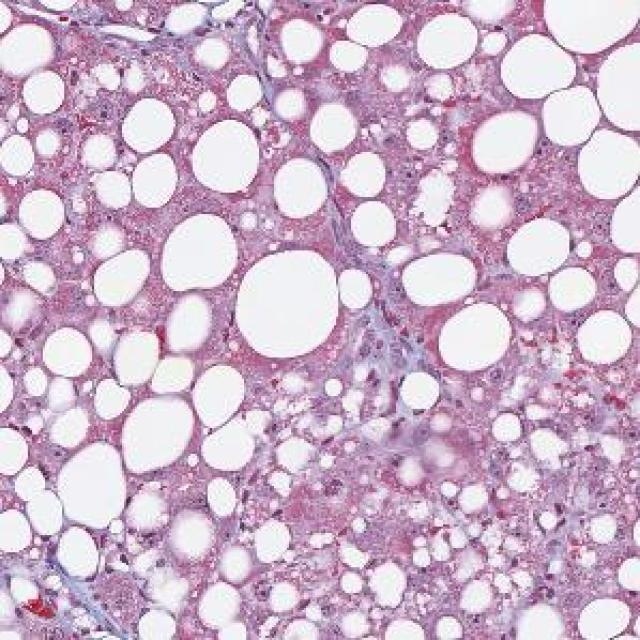fibrosis: (319, 310, 437, 400)
